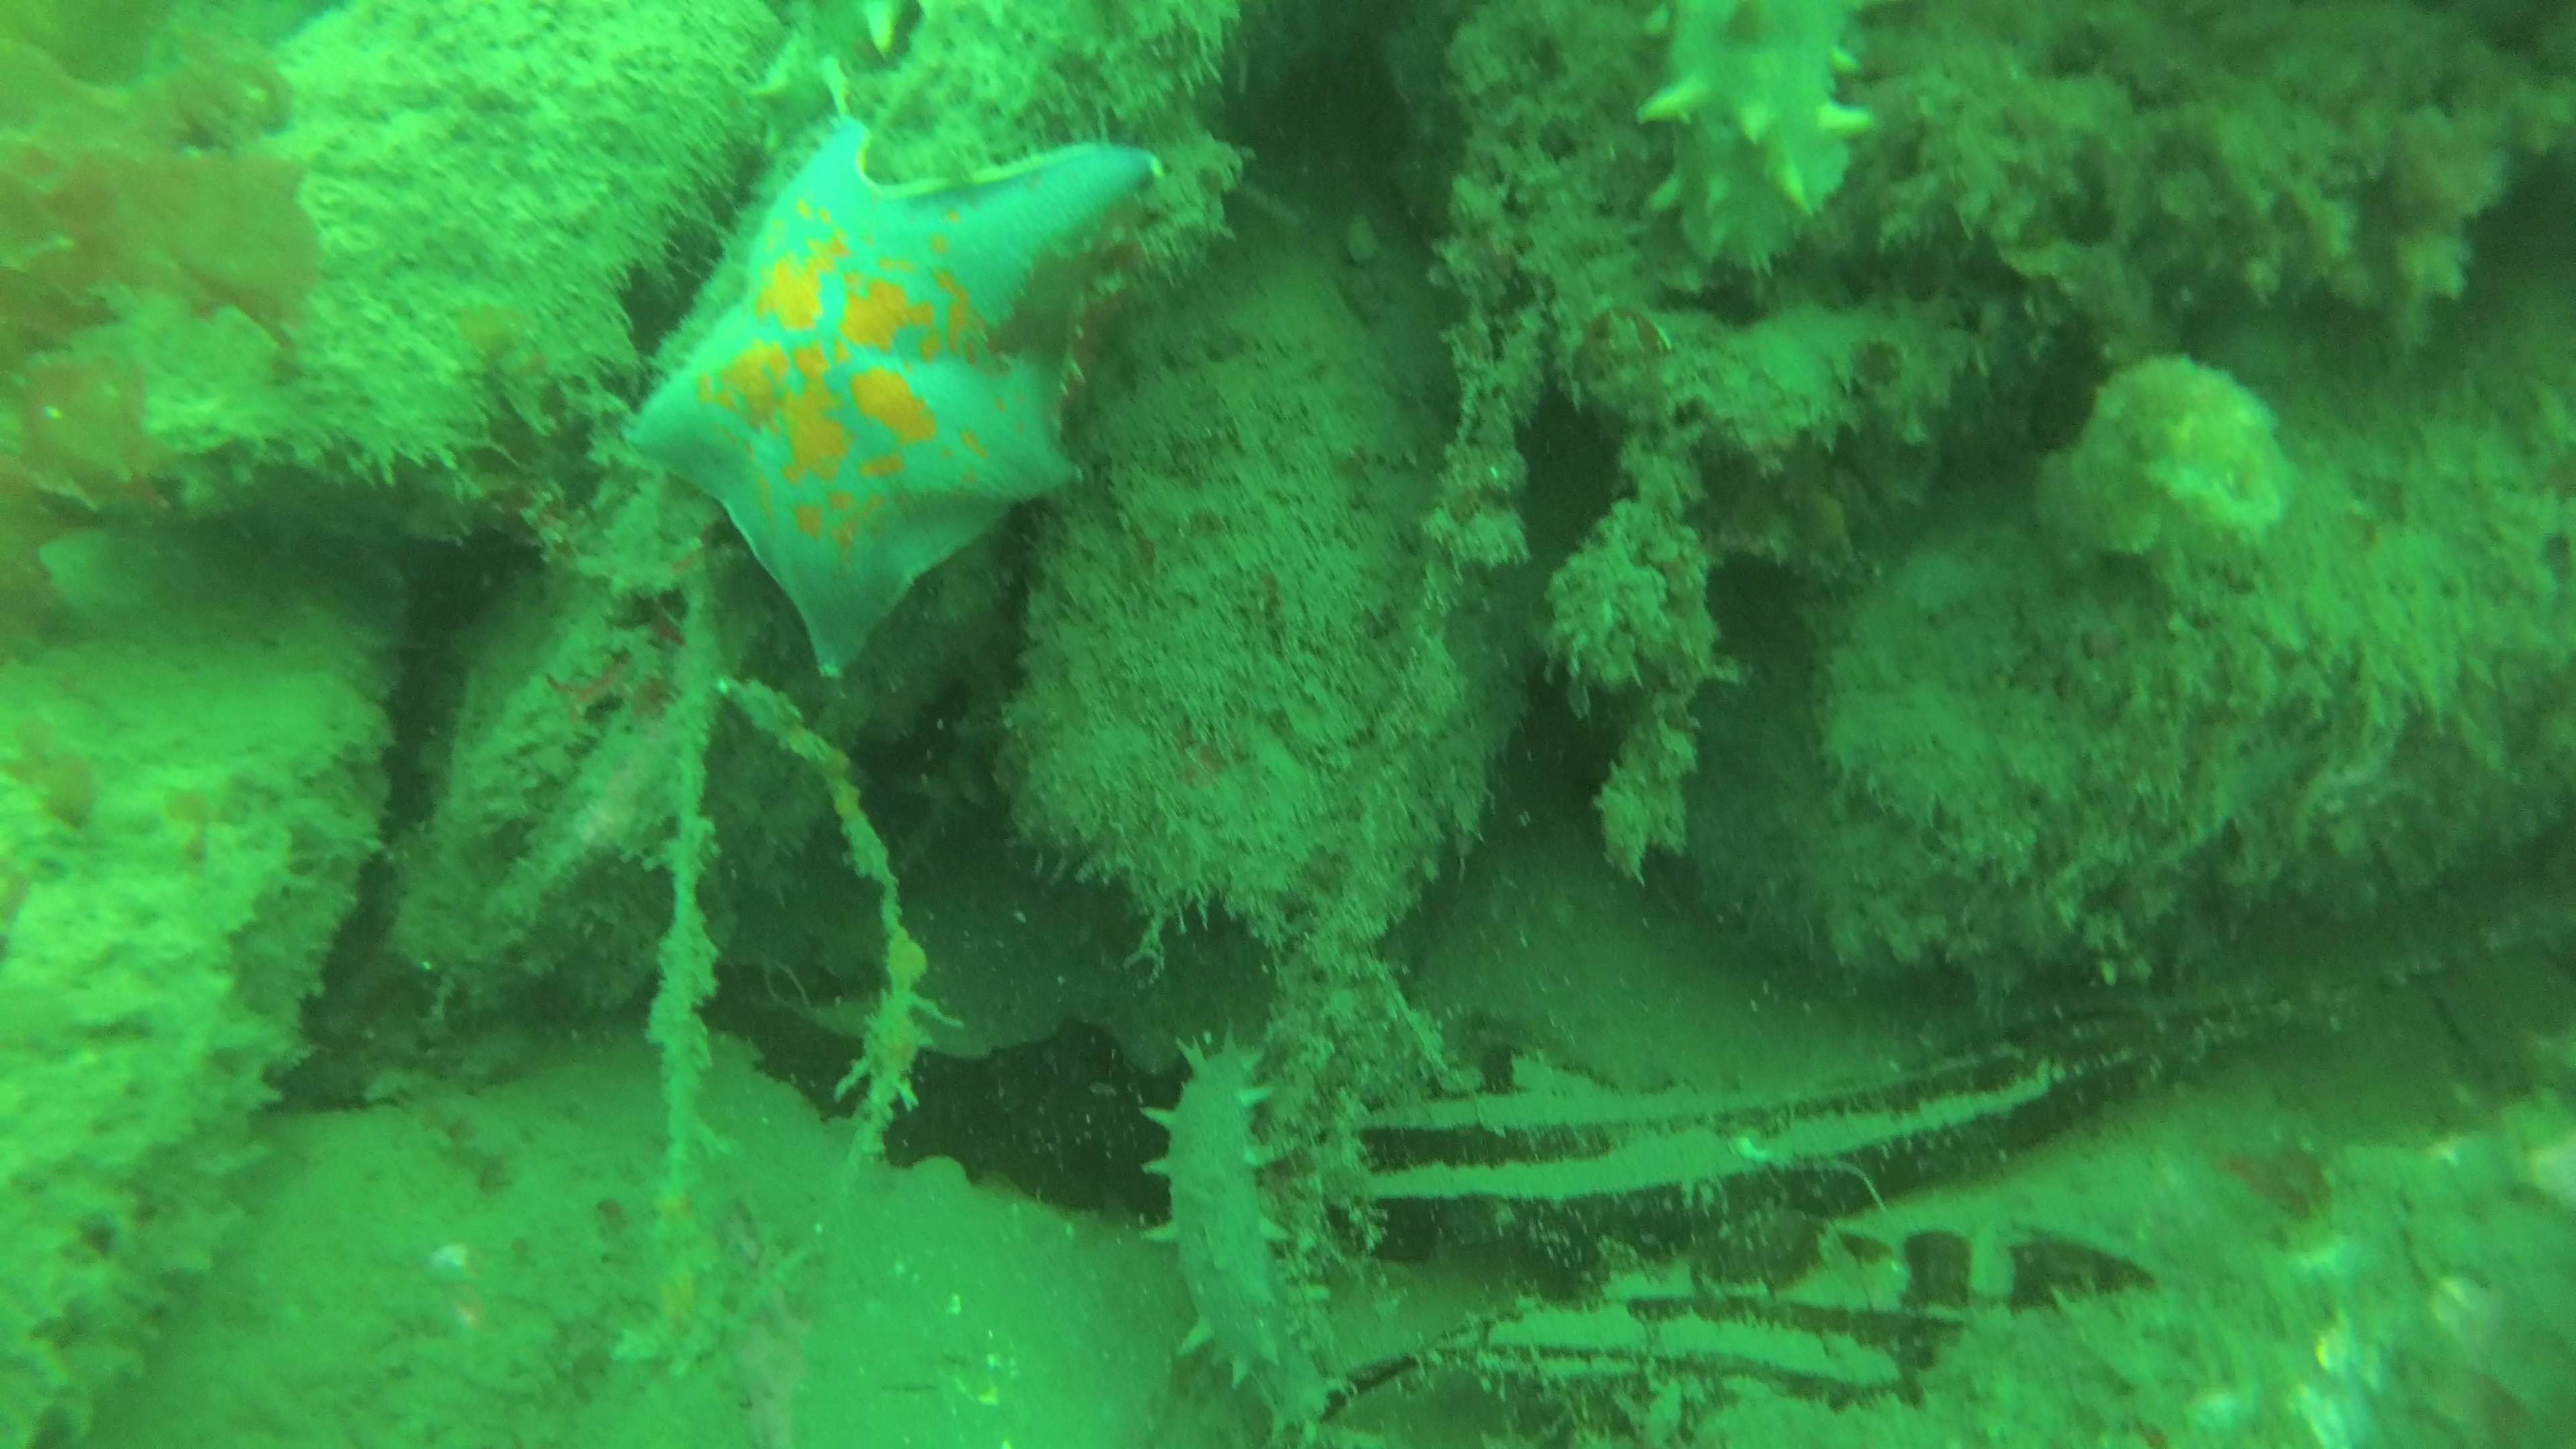holothurian: (1637, 0, 1874, 265), (1139, 1035, 1295, 1396), (740, 4, 924, 145)
starfish: (614, 117, 1162, 678)
